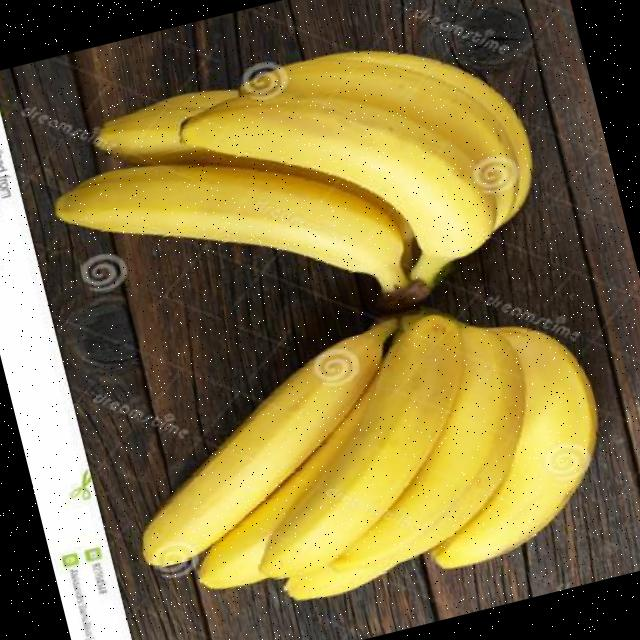banana: (89, 93, 493, 282), (216, 312, 462, 581), (51, 160, 417, 290)
